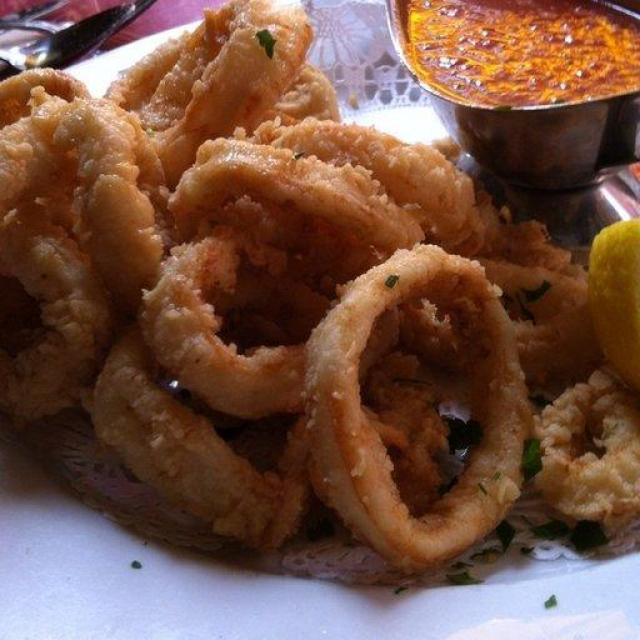food_waste: (1, 1, 640, 587)
